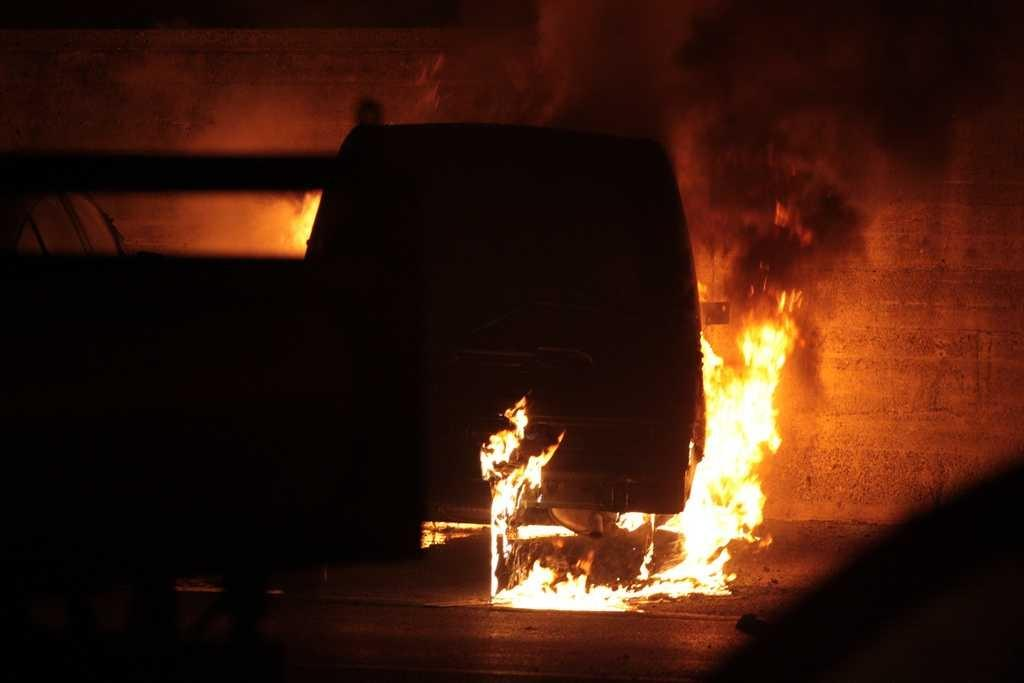fire: (708, 325, 763, 520), (505, 575, 625, 612), (682, 537, 728, 588)
